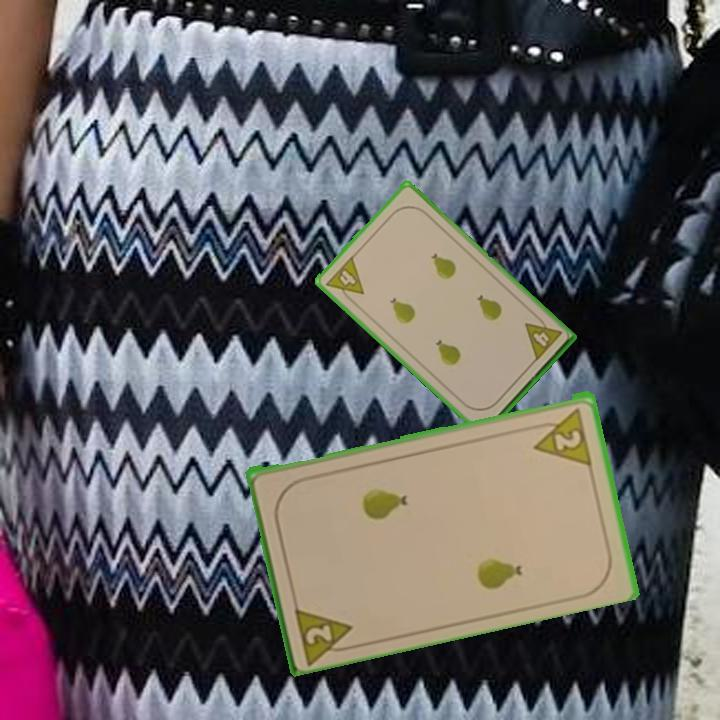2p: (291, 600, 360, 665), (527, 403, 595, 467)
4p: (322, 252, 367, 307), (521, 311, 564, 364)
